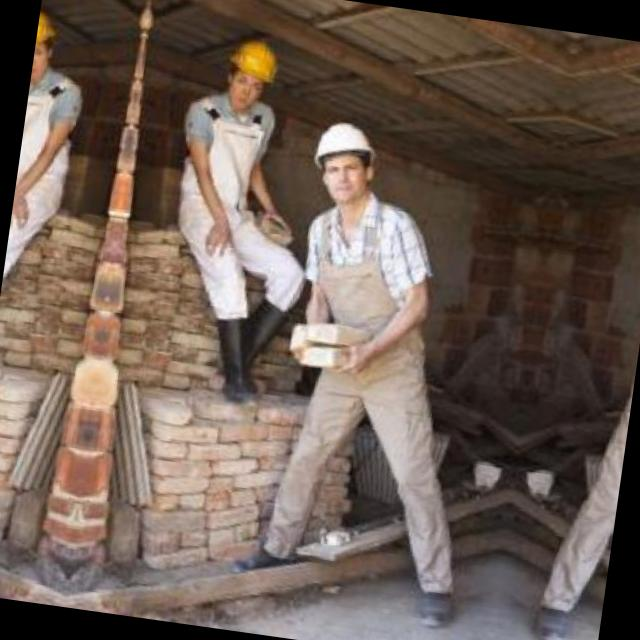helmet: (302, 108, 386, 213), (220, 33, 281, 112), (31, 6, 63, 82)
